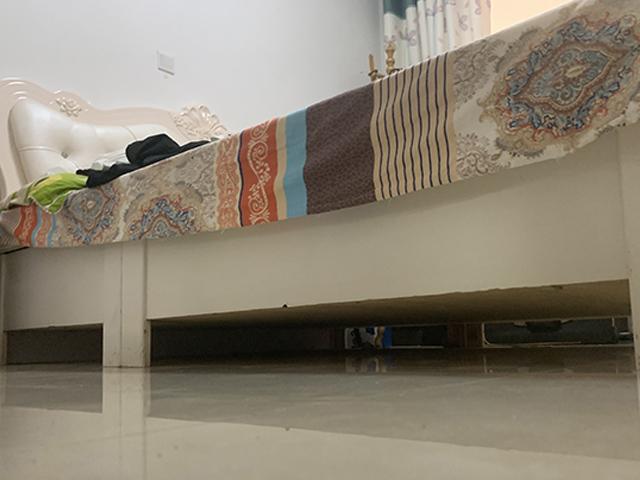bed: (1, 1, 640, 370)
